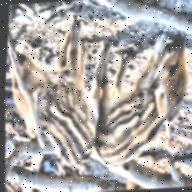boar: (85, 27, 192, 175), (1, 33, 105, 178)
